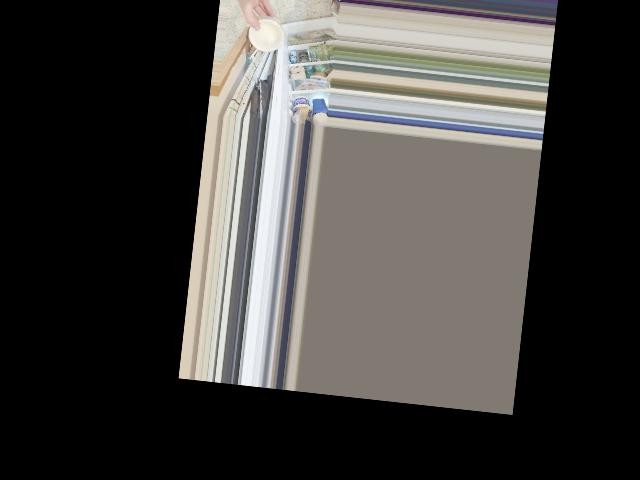cotage: (248, 17, 286, 58)
